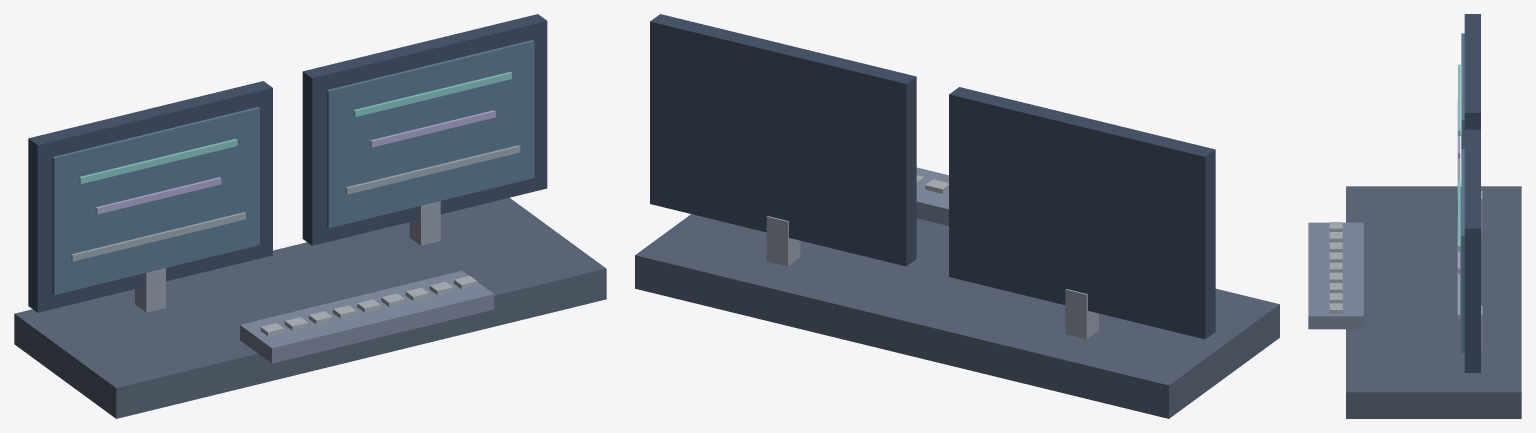
The model's file is dual_console.glb.
3 renders of one model, left to right at view 1: azimuth 30°, elevation 25°; view 2: azimuth 150°, elevation 25°; view 3: azimuth 270°, elevation 25°, orthographic. The views are drawn at different scales.
Visible parts, largest first — view 1: world; view 2: world; view 3: world.
Boxes of the visible parts, x1,y1,x2,y2 form: world: [14, 14, 606, 418]; world: [635, 14, 1279, 418]; world: [1308, 14, 1521, 418].
Size of the model in its own units: 1.56 by 0.66 by 0.655.
